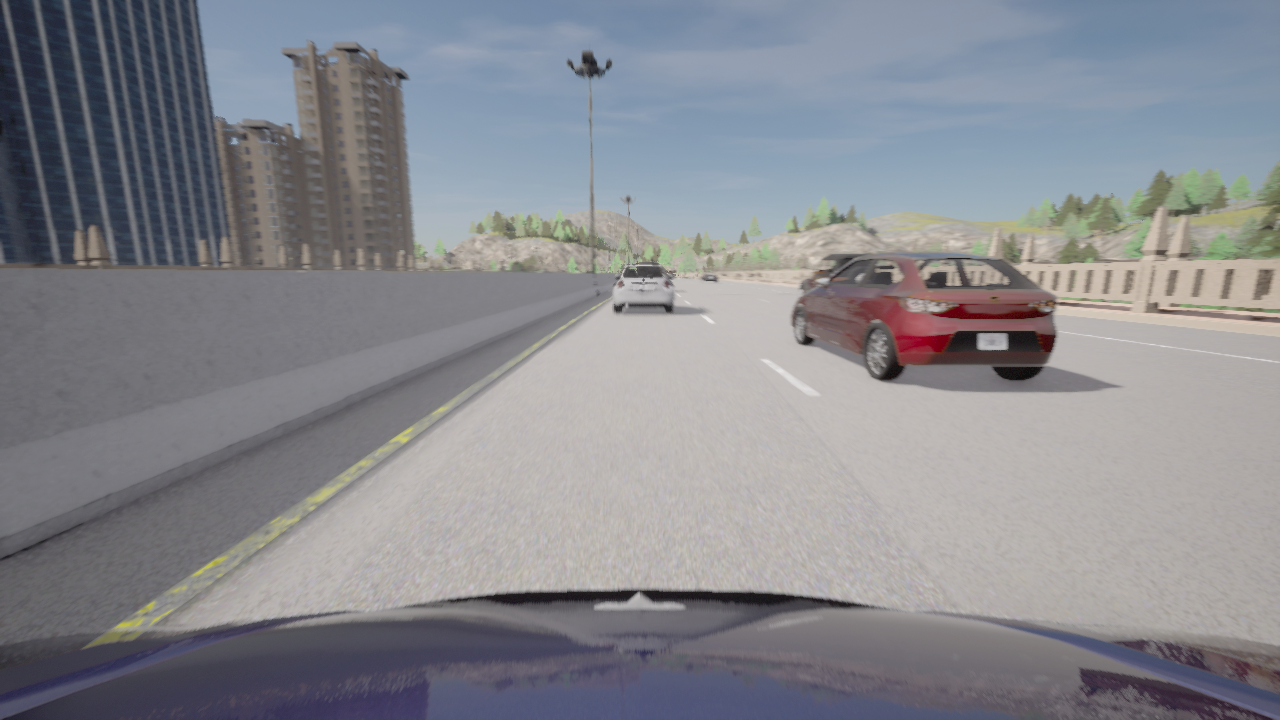cyclist: (0, 588, 1279, 719), (790, 251, 1058, 380), (798, 253, 871, 297), (613, 264, 674, 313), (700, 272, 718, 283), (639, 263, 658, 264)
